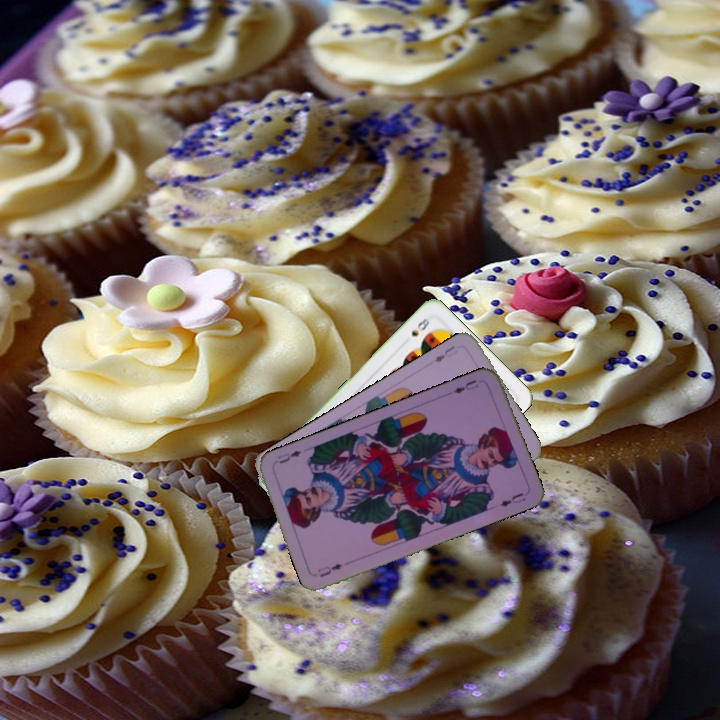EU: (430, 342, 460, 365), (313, 559, 345, 580), (450, 376, 481, 396)
S8: (407, 312, 432, 339)
